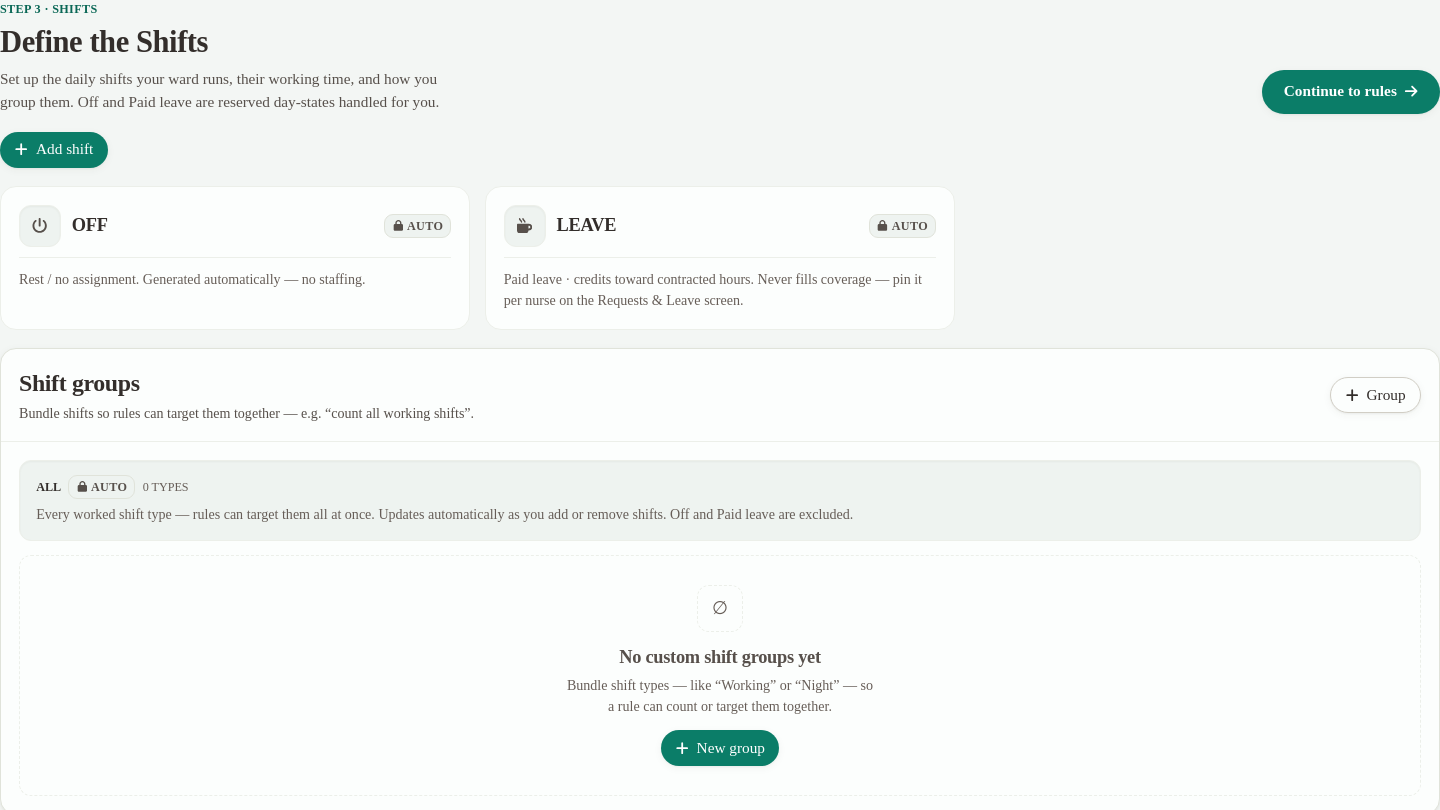
Test: ShiftTypeGrid — add + working-time reuse › shows the +1 day overnight badge for a wrap-around clock
Click the button with test id "add-shift-toggle" at (54, 150), box [0, 132, 108, 168]
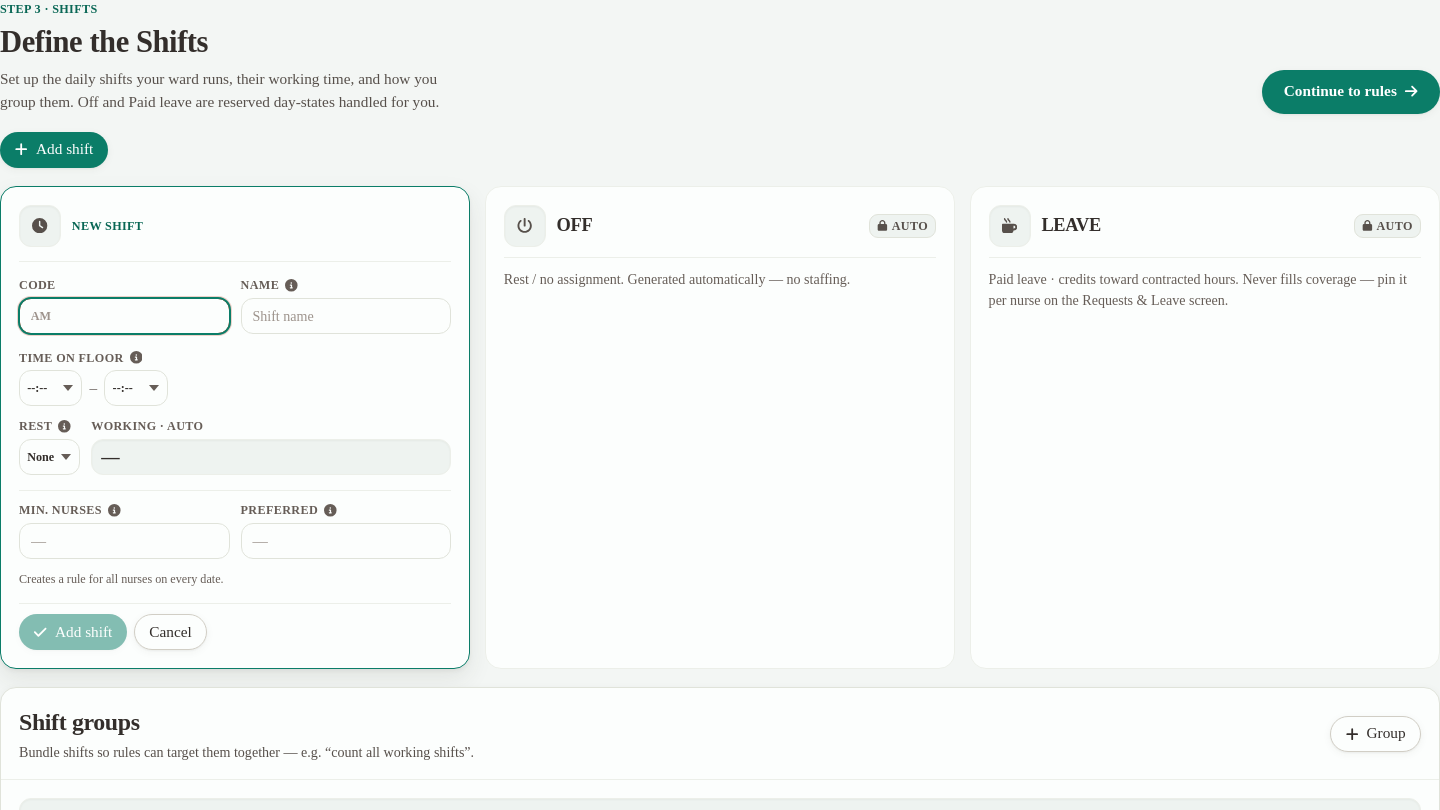
Select "20:00" in the dropdown with test id "shift-add-start" at (51, 388), box [19, 370, 82, 406]
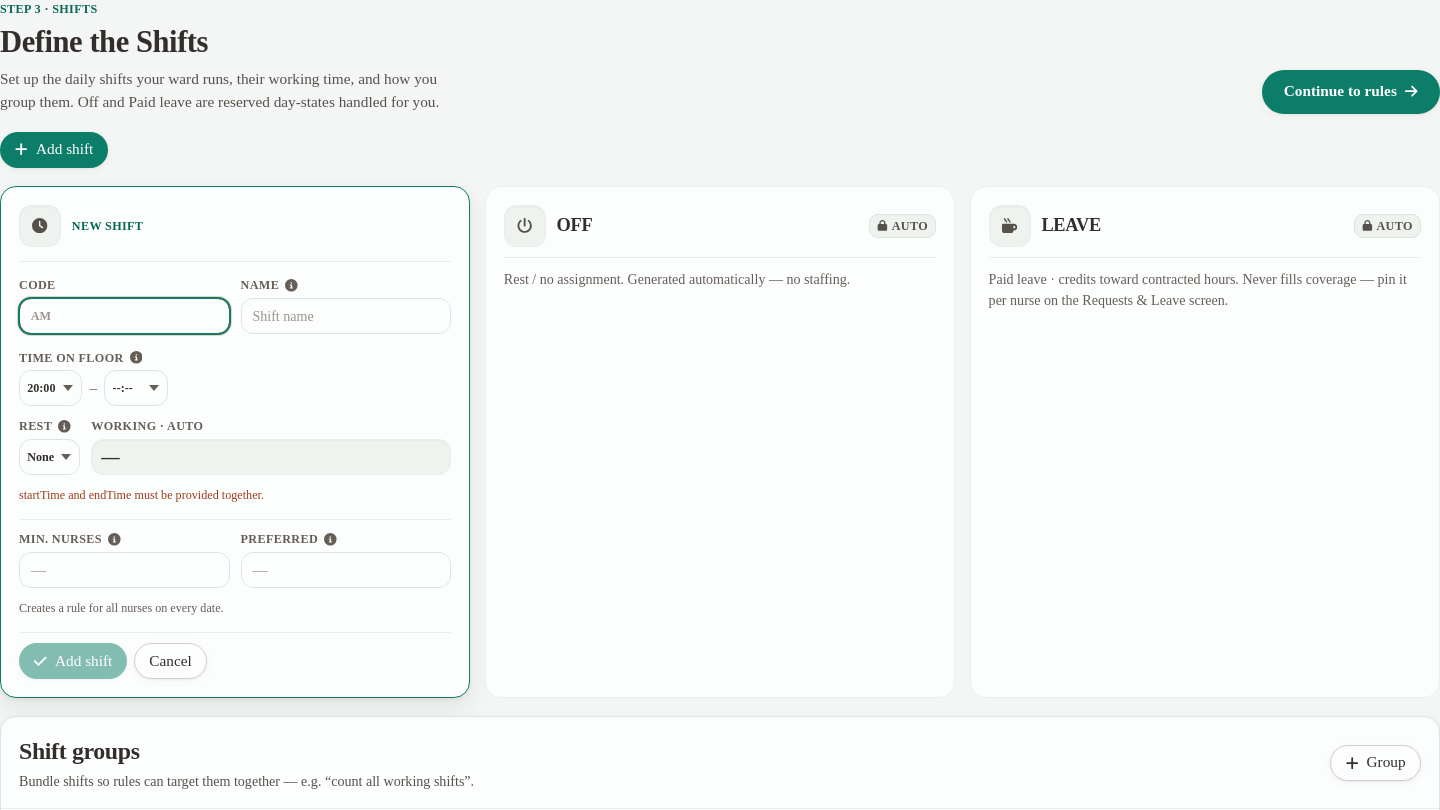
Select "04:00" in the dropdown with test id "shift-add-end" at (136, 388), box [104, 370, 168, 406]
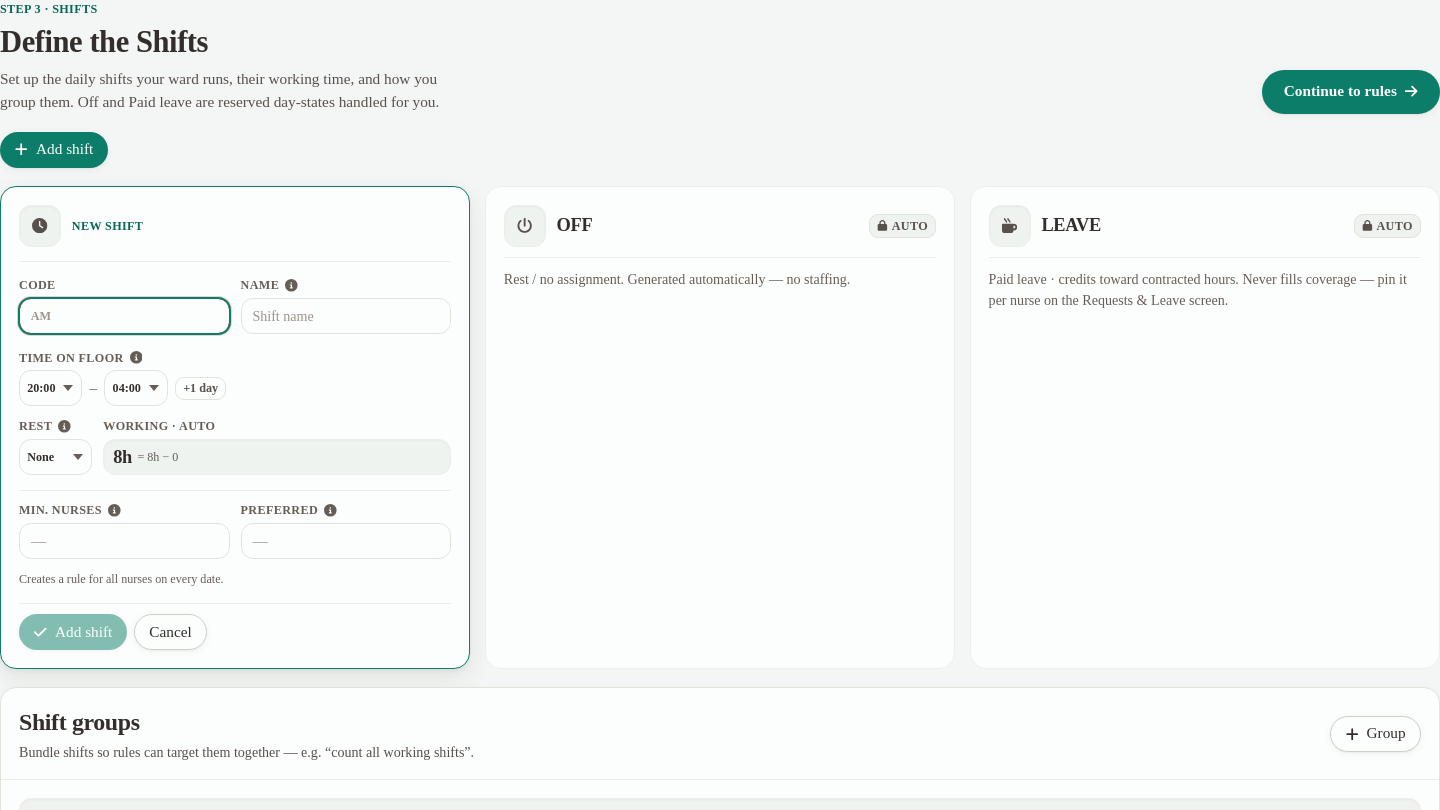
Expected: the text "+1 day" is shown, [175, 377, 226, 400]
Expected: the element with test id "shift-add-duration" shows "8h", [113, 447, 132, 467]
